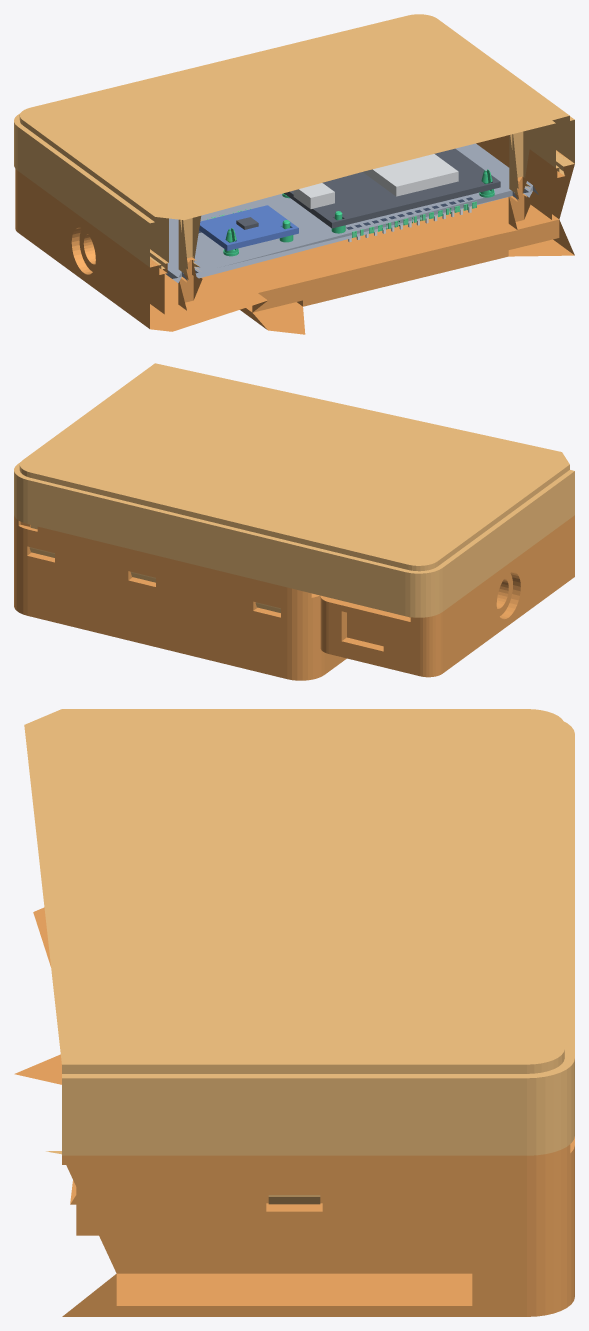
The model's file is SIMULACION_2_CORTE_INTERIOR_CON_TAPA_CERRADA.glb.
3 renders of one model, top to bottom at view 1: azimuth 30°, elevation 25°; view 2: azimuth 150°, elevation 25°; view 3: azimuth 270°, elevation 25°, orthographic. The views are drawn at different scales.
Parts seen in each view (by area): view 1: Tapa_Solar_Cerrada_Cortada, Capsula_Base_Cortada, Baquelita_PETG_Gris, Modulo_ESP32_Negro, Blindajes_RF_Plata, Modulos_PCB_Azul, Soportes_Ganchos_Y_Palitos_Verde, Nombres_Pines_PETG_Verde; view 2: Tapa_Solar_Cerrada_Cortada, Capsula_Base_Cortada; view 3: Tapa_Solar_Cerrada_Cortada, Capsula_Base_Cortada.
Boxes of the visible parts, x1,y1,x2,y2 form: Tapa_Solar_Cerrada_Cortada: (14,14,574,275); Capsula_Base_Cortada: (15,135,574,334); Baquelita_PETG_Gris: (165,143,538,282); Modulo_ESP32_Negro: (236,148,500,229); Blindajes_RF_Plata: (293,154,458,208); Modulos_PCB_Azul: (199,205,298,250); Soportes_Ganchos_Y_Palitos_Verde: (223,169,494,256); Nombres_Pines_PETG_Verde: (207,201,476,237); Tapa_Solar_Cerrada_Cortada: (14,363,574,617); Capsula_Base_Cortada: (14,515,574,680); Tapa_Solar_Cerrada_Cortada: (24,709,574,1204); Capsula_Base_Cortada: (14,907,574,1316).
Size of the model in its own units: 126 by 40 by 82.
